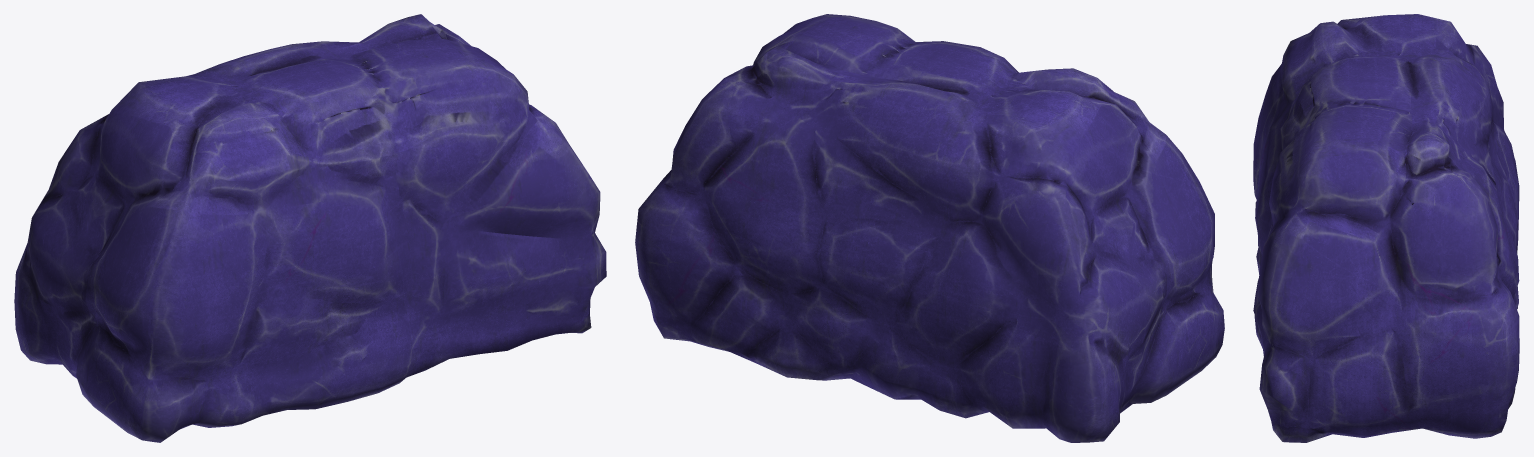
Rendered from Roca01_Texturizada.fbx.
The picture shows the model from 3 angles, left to right: view 1: azimuth 30°, elevation 25°; view 2: azimuth 150°, elevation 25°; view 3: azimuth 270°, elevation 25°; orthographic projection. The views are drawn at different scales.
Visible parts, largest first — view 1: Roca01Lowpoly; view 2: Roca01Lowpoly; view 3: Roca01Lowpoly.
Part boxes in pixels (x1,y1,x2,y2): Roca01Lowpoly: (14,14,606,442); Roca01Lowpoly: (635,14,1224,442); Roca01Lowpoly: (1253,14,1519,442).
Bounding box in the file's own units: 3246 × 1884 × 1676.
Materials: 1 (1 with a texture image).
